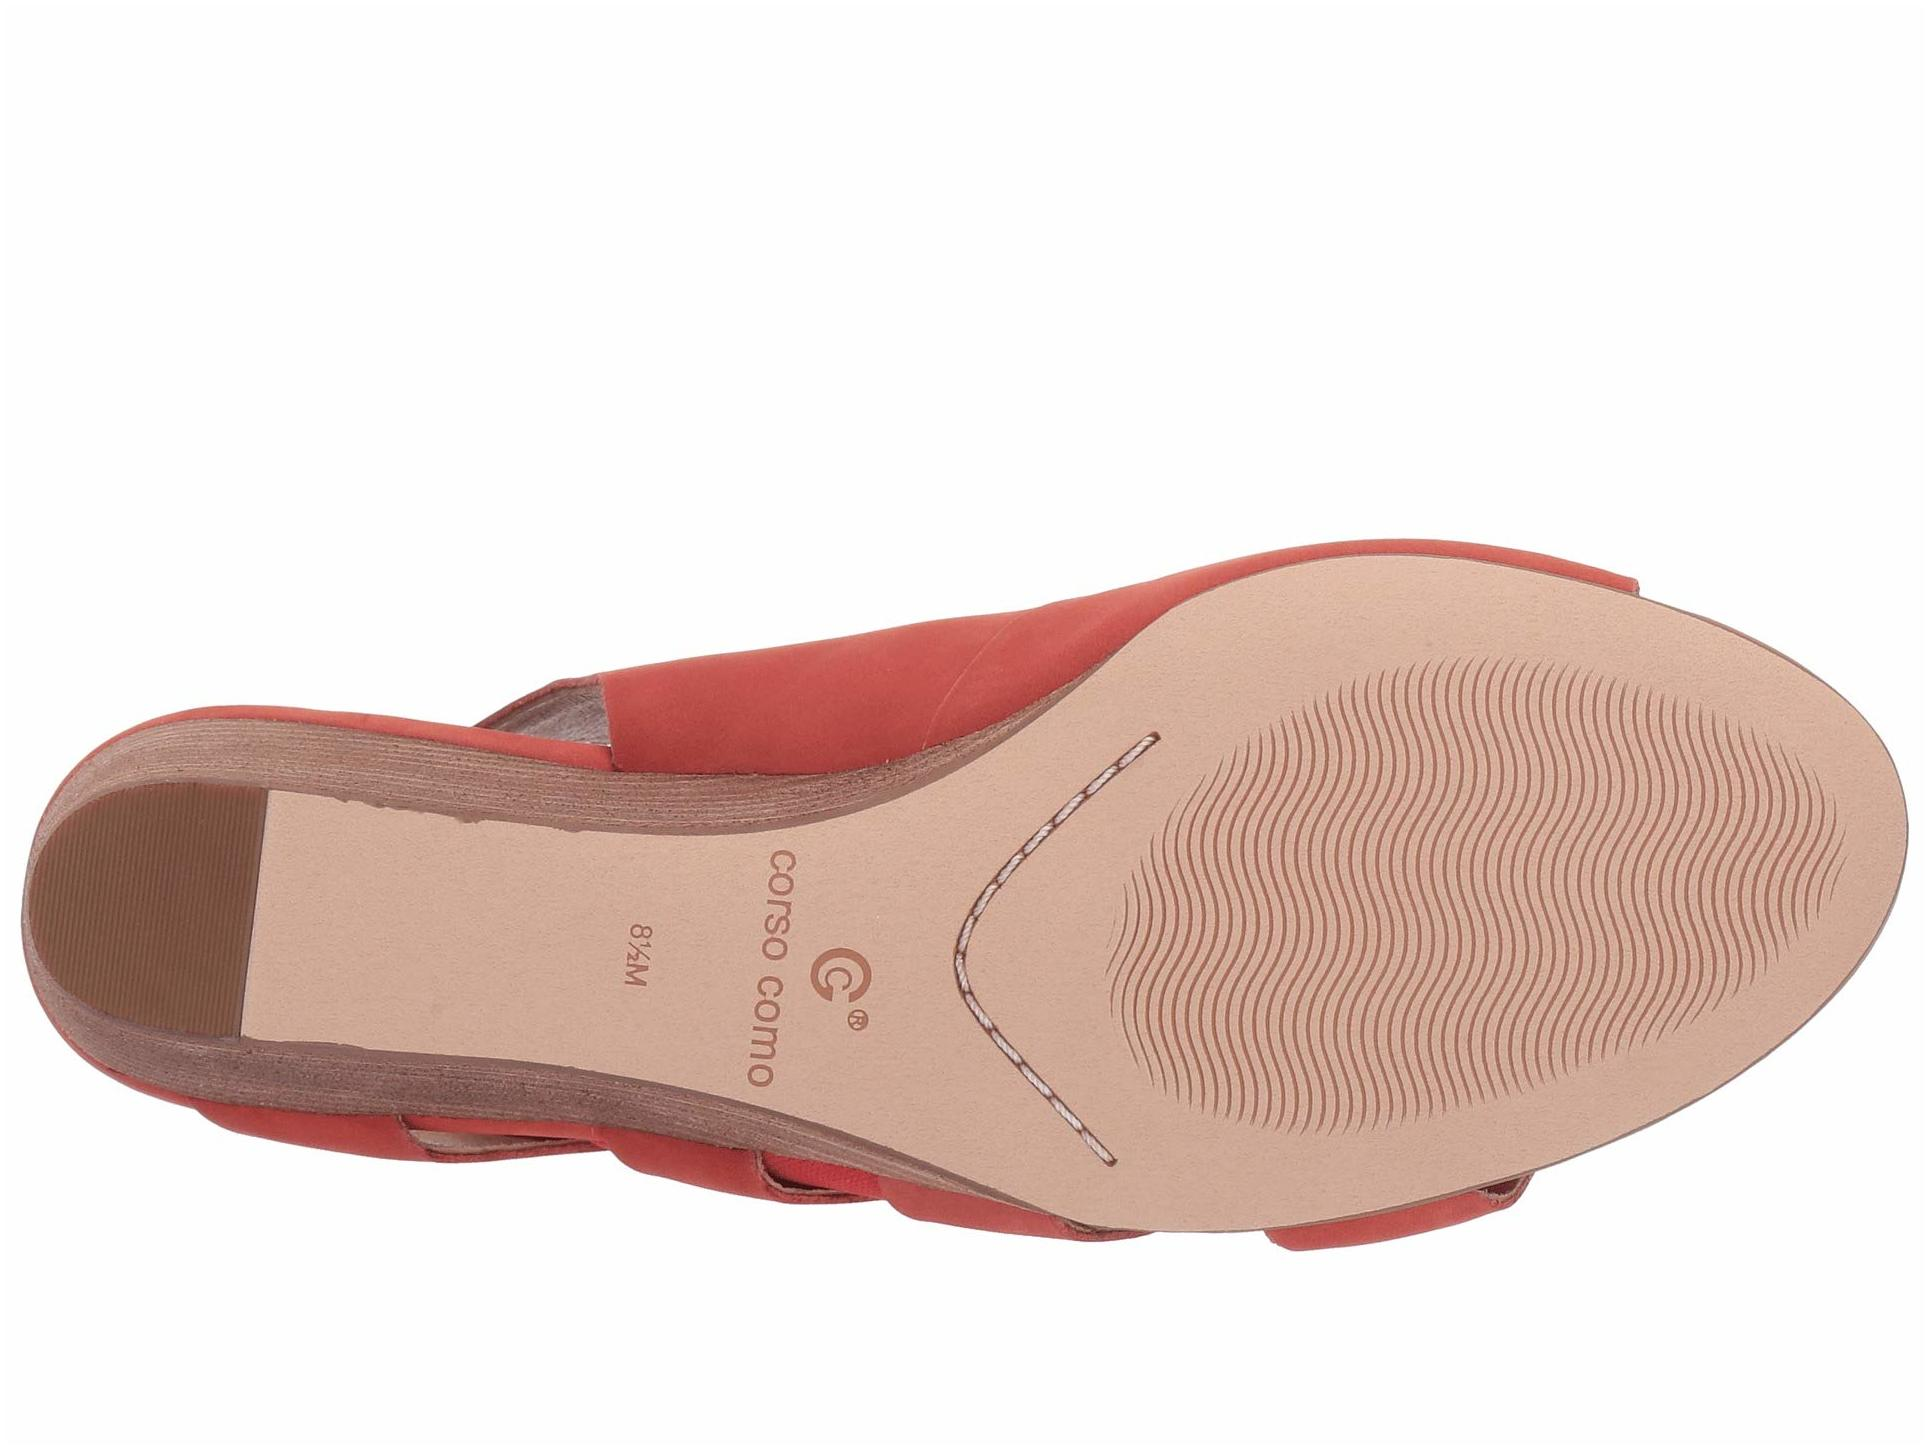chevron: (1214, 675, 1730, 1065)
circle: (711, 847, 820, 1100), (803, 915, 896, 1104)
line: (78, 832, 225, 995)
quad: (954, 780, 1139, 1174)
text: (711, 847, 820, 1100), (803, 915, 896, 1104), (600, 889, 679, 1046)
